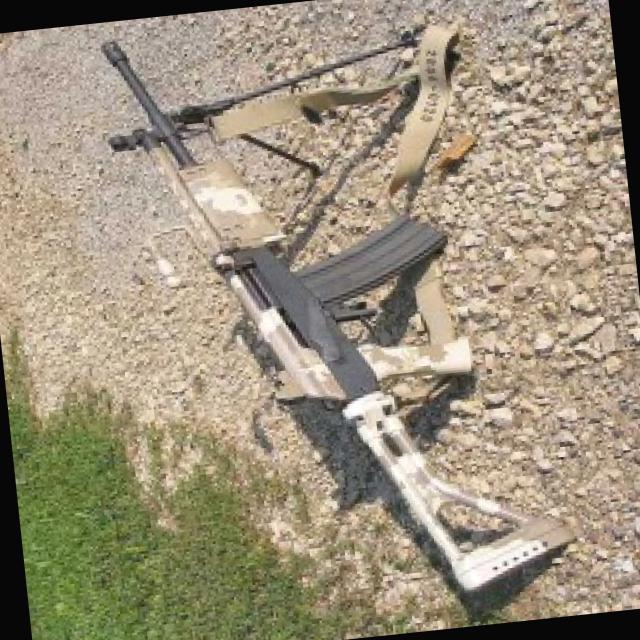long weapon: (60, 21, 604, 624)
